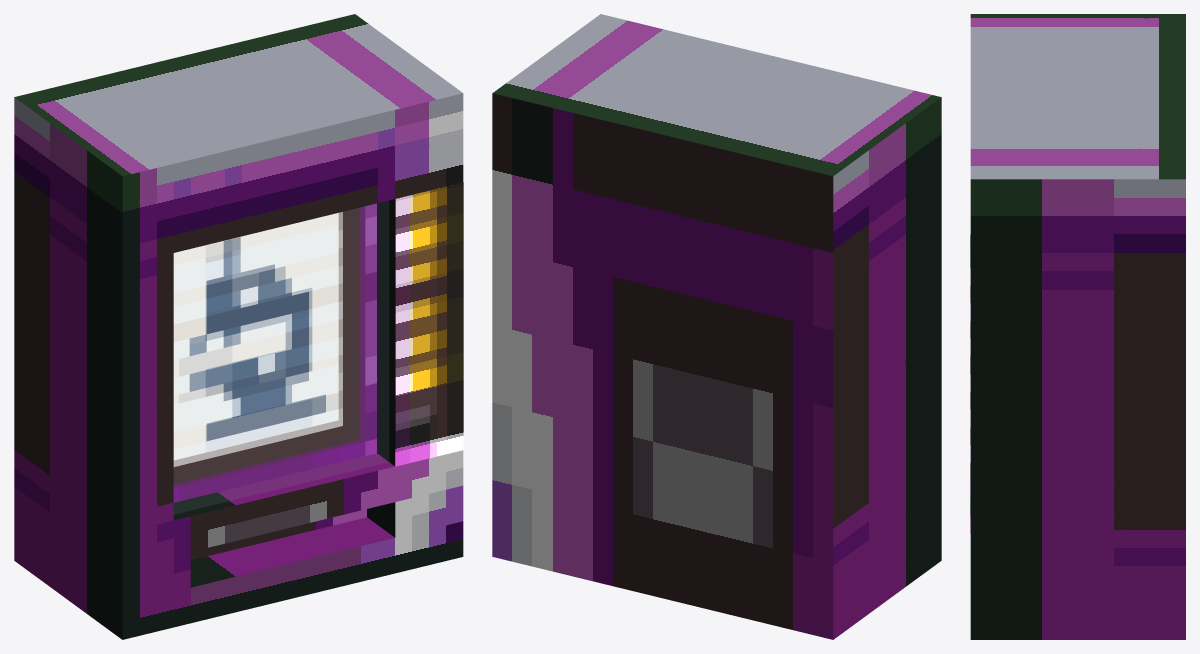
Rendered from vending_cytopro.glb.
3 views of the same model, side by side, from view 1: azimuth 30°, elevation 25°; view 2: azimuth 150°, elevation 25°; view 3: azimuth 270°, elevation 25° (orthographic).
Visible parts, largest first — view 1: vending_cytopro_Cabinet, vending_cytopro, vending_cytopro_Display_Glass, vending_cytopro_Delivery_Flap; view 2: vending_cytopro_Cabinet; view 3: vending_cytopro_Cabinet.
Part boxes in pixels (box(x1,y1,x2,y2)): vending_cytopro_Cabinet: box(14, 14, 463, 639); vending_cytopro: box(173, 182, 463, 502); vending_cytopro_Display_Glass: box(174, 201, 388, 513); vending_cytopro_Delivery_Flap: box(190, 509, 366, 559); vending_cytopro_Cabinet: box(492, 14, 941, 639); vending_cytopro_Cabinet: box(970, 14, 1185, 639).
Bounding box in the file's own units: 1.2 × 1.56 × 0.662.
4 materials, 3 textured.
